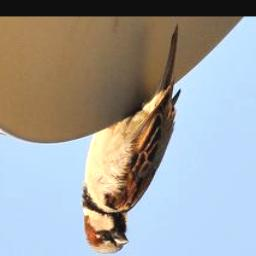Swallow: (79, 25, 180, 255)
